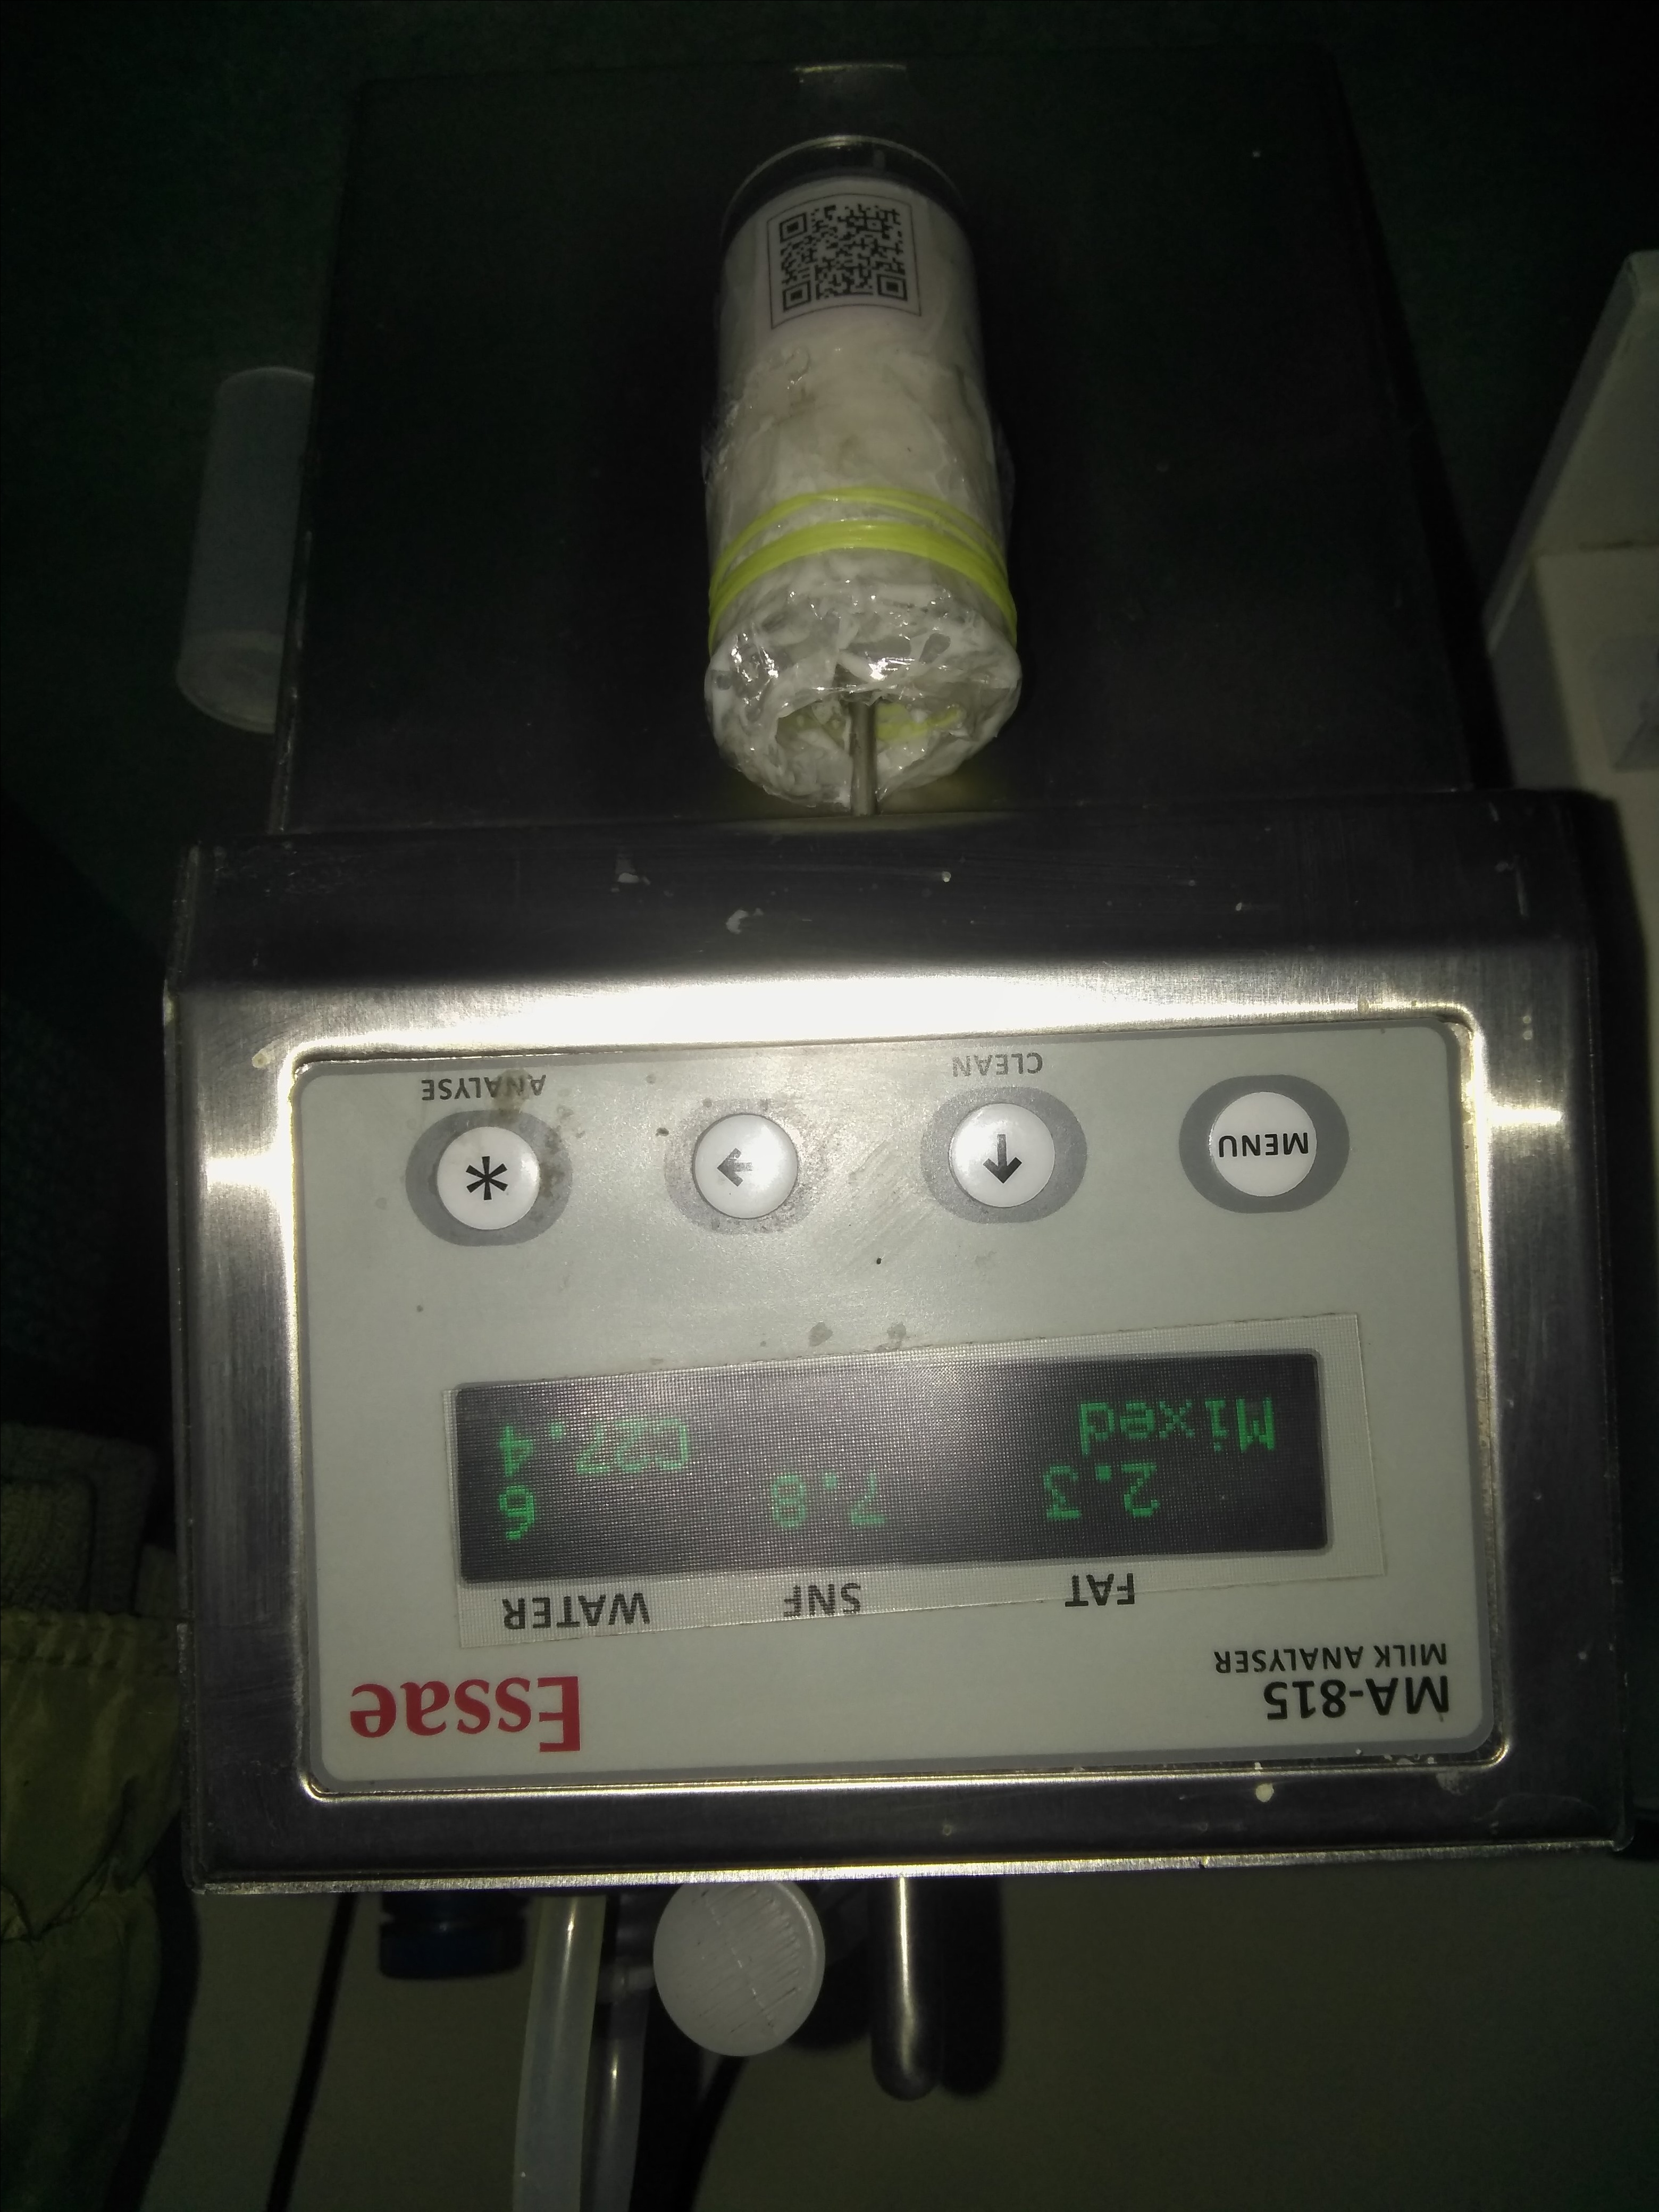lcd: (441, 1332, 1377, 1616)
qr: (774, 174, 931, 336)
